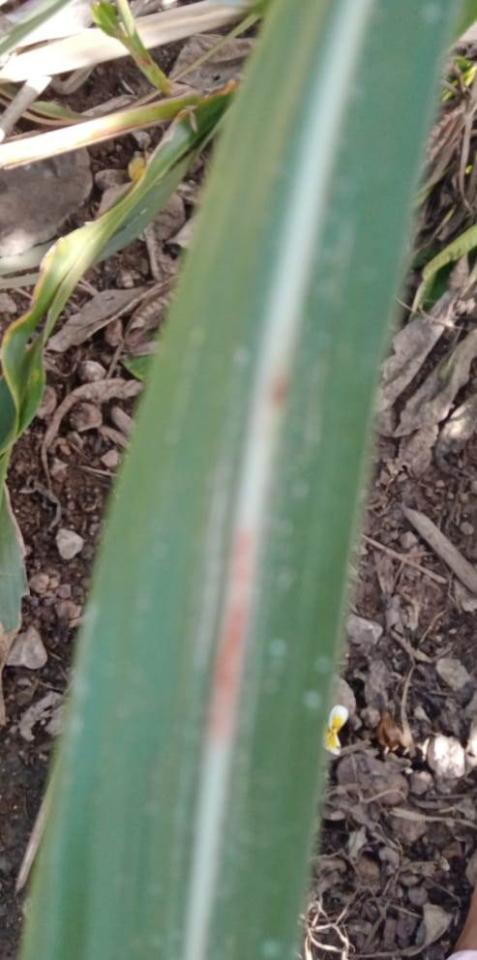RedRot: (205, 523, 258, 755), (267, 371, 291, 411)
